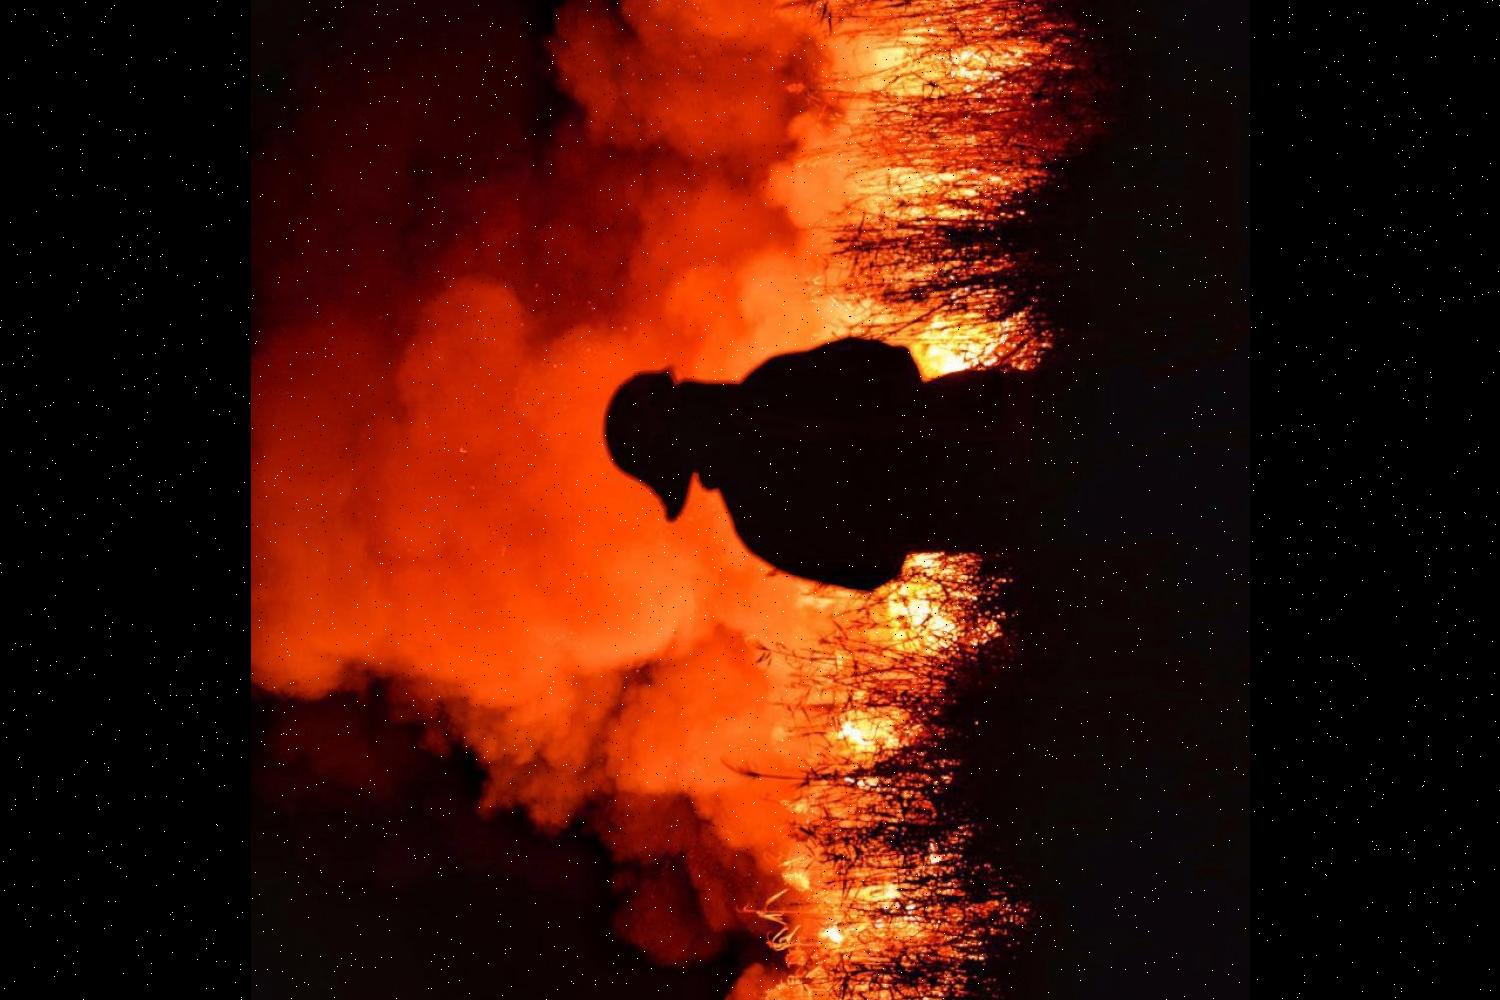fire: (740, 550, 1019, 1000), (794, 0, 1077, 378)
